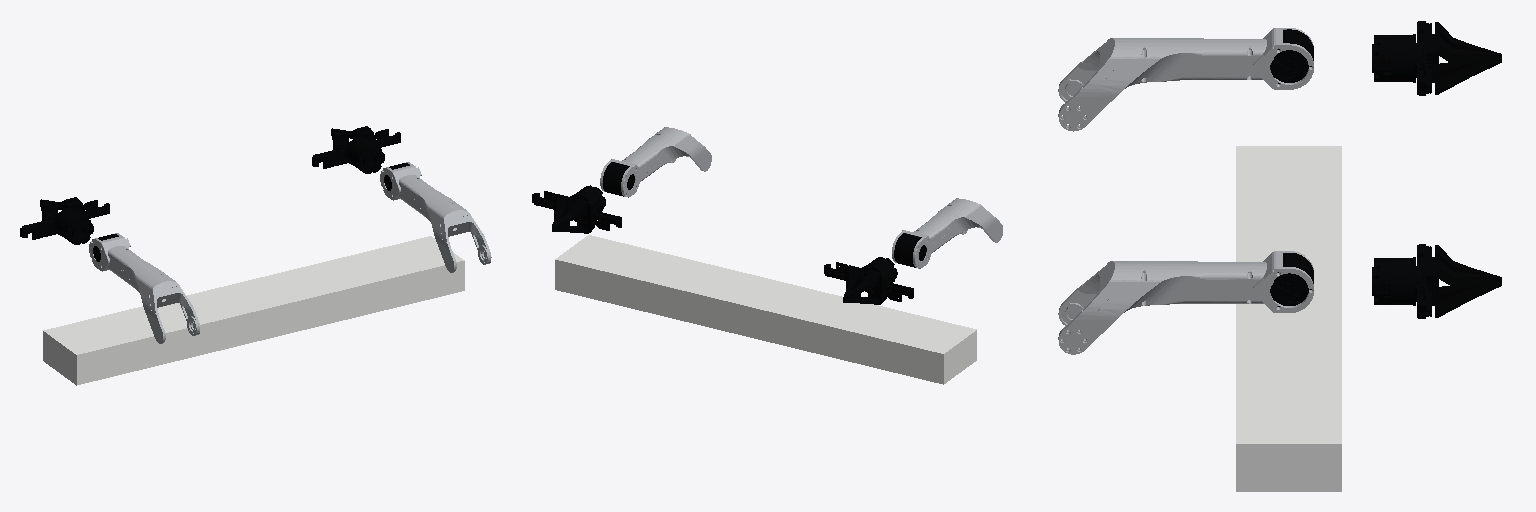
URDF robot description (arx5_bimanual):
<?xml version="1.0"?>
<!--
  Bimanual ARX X5 model derived from real-stanford/arx5-sdk
  commit c160db7834530a3d80fec524547c74e1d4fa8035 (MIT), models/X5.urdf.

  The kinematic origins and axes match the vendor SDK (ARXroboticsX/X5
  x5.urdf). Joint limits are the ones the SDK controller enforces
  (include/app/config.h, "X5"), not the URDF's +/-10 rad placeholders.
  link6.STL is split into a static gripper body and two finger meshes so the
  0.088 m stroke can be shown. The world convention is +X right,
  +Y forward/away from the operator, and +Z up.
-->
<robot name="arx5_bimanual">
  <!-- The SolidWorks export is uniformly grey. Use the production X5 finish
       instead: matte black links, motors and gripper, with the brushed
       aluminium forearm shell (link3_arm) and ARX's white base station. -->
  <material name="arx5_black"><color rgba="0.045 0.048 0.052 1"/></material>
  <material name="arx5_aluminium"><color rgba="0.720 0.730 0.745 1"/></material>
  <material name="arx5_mount"><color rgba="0.930 0.930 0.925 1"/></material>

  <link name="arx5_bimanual_base">
    <visual>
      <origin xyz="0 0 -0.03" rpy="0 0 0"/>
      <geometry><box size="0.80 0.12 0.06"/></geometry>
      <material name="arx5_mount"/>
    </visual>
    <collision>
      <origin xyz="0 0 -0.03" rpy="0 0 0"/>
      <geometry><box size="0.80 0.12 0.06"/></geometry>
    </collision>
  </link>

  <!-- Left arm. The vendor zero pose faces +X; the mount yaws it to world +Y.
       Both arms are identical (not mirrored) and the vendor wrist sits 1 mm to
       the arm's right (joint5 y=-0.001), so the mounts shift 1 mm along world
       +X to keep the TCP pair centred at X=0 while staying 0.60 m apart. -->
  <joint name="left_mount" type="fixed">
    <origin xyz="-0.299 0 0" rpy="0 0 1.5707963267948966"/>
    <parent link="arx5_bimanual_base"/><child link="left_base_link"/>
  </joint>
  <link name="left_base_link">
    <visual>
      <geometry><mesh filename="meshes/base_link.stl"/></geometry>
      <material name="arx5_black"/>
    </visual>
  </link>
  <link name="left_link1">
    <visual>
      <geometry><mesh filename="meshes/link1.stl"/></geometry>
      <material name="arx5_black"/>
    </visual>
  </link>
  <joint name="left_joint1" type="revolute">
    <origin xyz="0 0 0.0603" rpy="0 0 0"/>
    <axis xyz="0 0 1"/>
    <parent link="left_base_link"/><child link="left_link1"/>
    <limit effort="100" velocity="5.0" lower="-3.14" upper="2.618"/>
  </joint>
  <link name="left_link2">
    <visual>
      <geometry><mesh filename="meshes/link2.stl"/></geometry>
      <material name="arx5_black"/>
    </visual>
  </link>
  <joint name="left_joint2" type="revolute">
    <origin xyz="0.02 0 0.0402" rpy="0 0 0"/>
    <axis xyz="0 1 0"/>
    <parent link="left_link1"/><child link="left_link2"/>
    <limit effort="100" velocity="5.0" lower="-0.05" upper="3.50"/>
  </joint>
  <link name="left_link3">
    <visual>
      <geometry><mesh filename="meshes/link3_arm.stl"/></geometry>
      <material name="arx5_aluminium"/>
    </visual>
    <visual>
      <geometry><mesh filename="meshes/link3_motor.stl"/></geometry>
      <material name="arx5_black"/>
    </visual>
  </link>
  <joint name="left_joint3" type="revolute">
    <origin xyz="-0.264 0 0" rpy="-3.1416 0 0"/>
    <axis xyz="0 1 0"/>
    <parent link="left_link2"/><child link="left_link3"/>
    <limit effort="30" velocity="5.5" lower="-0.10" upper="3.20"/>
  </joint>
  <link name="left_link4">
    <visual>
      <geometry><mesh filename="meshes/link4.stl"/></geometry>
      <material name="arx5_black"/>
    </visual>
  </link>
  <joint name="left_joint4" type="revolute">
    <origin xyz="0.245 0 -0.056" rpy="0 0 0"/>
    <axis xyz="0 1 0"/>
    <parent link="left_link3"/><child link="left_link4"/>
    <limit effort="30" velocity="5.5" lower="-1.60" upper="1.55"/>
  </joint>
  <link name="left_link5">
    <visual>
      <geometry><mesh filename="meshes/link5.stl"/></geometry>
      <material name="arx5_black"/>
    </visual>
  </link>
  <joint name="left_joint5" type="revolute">
    <origin xyz="0.06575 -0.001 -0.0825" rpy="0 0 0"/>
    <axis xyz="0 0 1"/>
    <parent link="left_link4"/><child link="left_link5"/>
    <limit effort="100" velocity="5.0" lower="-1.57" upper="1.57"/>
  </joint>
  <link name="left_link6">
    <visual>
      <geometry><mesh filename="meshes/link6_body.stl"/></geometry>
      <material name="arx5_black"/>
    </visual>
  </link>
  <joint name="left_joint6" type="revolute">
    <origin xyz="0.02845 0 0.0825" rpy="-3.1416 0 0"/>
    <axis xyz="1 0 0"/>
    <parent link="left_link5"/><child link="left_link6"/>
    <limit effort="100" velocity="5.0" lower="-2.0" upper="2.0"/>
  </joint>
  <!-- The CAD finger pads sit 0.0301 m off the jaw centreline (60.2 mm gap).
       Shift each mesh back by that much so q=0 is closed and q=0.044 gives
       the SDK's 0.088 m full opening. joint7 drives the +Y finger and joint8
       mirrors it (same driven/mimic structure as assets/piper/piper.urdf). -->
  <link name="left_finger_pos_y">
    <visual>
      <origin xyz="0 -0.0301 0" rpy="0 0 0"/>
      <geometry><mesh filename="meshes/finger_pos_y.stl"/></geometry>
      <material name="arx5_black"/>
    </visual>
  </link>
  <joint name="left_joint7" type="prismatic">
    <origin xyz="0 0 0" rpy="0 0 0"/>
    <axis xyz="0 1 0"/>
    <parent link="left_link6"/><child link="left_finger_pos_y"/>
    <limit effort="10" velocity="0.15" lower="0" upper="0.044"/>
  </joint>
  <link name="left_finger_neg_y">
    <visual>
      <origin xyz="0 0.0301 0" rpy="0 0 0"/>
      <geometry><mesh filename="meshes/finger_neg_y.stl"/></geometry>
      <material name="arx5_black"/>
    </visual>
  </link>
  <joint name="left_joint8" type="prismatic">
    <origin xyz="0 0 0" rpy="0 0 0"/>
    <axis xyz="0 -1 0"/>
    <parent link="left_link6"/><child link="left_finger_neg_y"/>
    <limit effort="10" velocity="0.15" lower="0" upper="0.044"/>
    <mimic joint="left_joint7" multiplier="1" offset="0"/>
  </joint>
  <!-- Fingertip plane: the finger meshes end 0.1466 m along link6 +X. The TCP
       follows the HandUMI convention (+Z approach, Y across the jaw). -->
  <link name="left_tcp"/>
  <joint name="left_tcp_fixed" type="fixed">
    <origin xyz="0.1466 0 0" rpy="0 1.5707963267948966 0"/>
    <parent link="left_link6"/><child link="left_tcp"/>
  </joint>

  <!-- Right arm: identical chain under the right mount. -->
  <joint name="right_mount" type="fixed">
    <origin xyz="0.301 0 0" rpy="0 0 1.5707963267948966"/>
    <parent link="arx5_bimanual_base"/><child link="right_base_link"/>
  </joint>
  <link name="right_base_link">
    <visual>
      <geometry><mesh filename="meshes/base_link.stl"/></geometry>
      <material name="arx5_black"/>
    </visual>
  </link>
  <link name="right_link1">
    <visual>
      <geometry><mesh filename="meshes/link1.stl"/></geometry>
      <material name="arx5_black"/>
    </visual>
  </link>
  <joint name="right_joint1" type="revolute">
    <origin xyz="0 0 0.0603" rpy="0 0 0"/>
    <axis xyz="0 0 1"/>
    <parent link="right_base_link"/><child link="right_link1"/>
    <limit effort="100" velocity="5.0" lower="-3.14" upper="2.618"/>
  </joint>
  <link name="right_link2">
    <visual>
      <geometry><mesh filename="meshes/link2.stl"/></geometry>
      <material name="arx5_black"/>
    </visual>
  </link>
  <joint name="right_joint2" type="revolute">
    <origin xyz="0.02 0 0.0402" rpy="0 0 0"/>
    <axis xyz="0 1 0"/>
    <parent link="right_link1"/><child link="right_link2"/>
    <limit effort="100" velocity="5.0" lower="-0.05" upper="3.50"/>
  </joint>
  <link name="right_link3">
    <visual>
      <geometry><mesh filename="meshes/link3_arm.stl"/></geometry>
      <material name="arx5_aluminium"/>
    </visual>
    <visual>
      <geometry><mesh filename="meshes/link3_motor.stl"/></geometry>
      <material name="arx5_black"/>
    </visual>
  </link>
  <joint name="right_joint3" type="revolute">
    <origin xyz="-0.264 0 0" rpy="-3.1416 0 0"/>
    <axis xyz="0 1 0"/>
    <parent link="right_link2"/><child link="right_link3"/>
    <limit effort="30" velocity="5.5" lower="-0.10" upper="3.20"/>
  </joint>
  <link name="right_link4">
    <visual>
      <geometry><mesh filename="meshes/link4.stl"/></geometry>
      <material name="arx5_black"/>
    </visual>
  </link>
  <joint name="right_joint4" type="revolute">
    <origin xyz="0.245 0 -0.056" rpy="0 0 0"/>
    <axis xyz="0 1 0"/>
    <parent link="right_link3"/><child link="right_link4"/>
    <limit effort="30" velocity="5.5" lower="-1.60" upper="1.55"/>
  </joint>
  <link name="right_link5">
    <visual>
      <geometry><mesh filename="meshes/link5.stl"/></geometry>
      <material name="arx5_black"/>
    </visual>
  </link>
  <joint name="right_joint5" type="revolute">
    <origin xyz="0.06575 -0.001 -0.0825" rpy="0 0 0"/>
    <axis xyz="0 0 1"/>
    <parent link="right_link4"/><child link="right_link5"/>
    <limit effort="100" velocity="5.0" lower="-1.57" upper="1.57"/>
  </joint>
  <link name="right_link6">
    <visual>
      <geometry><mesh filename="meshes/link6_body.stl"/></geometry>
      <material name="arx5_black"/>
    </visual>
  </link>
  <joint name="right_joint6" type="revolute">
    <origin xyz="0.02845 0 0.0825" rpy="-3.1416 0 0"/>
    <axis xyz="1 0 0"/>
    <parent link="right_link5"/><child link="right_link6"/>
    <limit effort="100" velocity="5.0" lower="-2.0" upper="2.0"/>
  </joint>
  <link name="right_finger_pos_y">
    <visual>
      <origin xyz="0 -0.0301 0" rpy="0 0 0"/>
      <geometry><mesh filename="meshes/finger_pos_y.stl"/></geometry>
      <material name="arx5_black"/>
    </visual>
  </link>
  <joint name="right_joint7" type="prismatic">
    <origin xyz="0 0 0" rpy="0 0 0"/>
    <axis xyz="0 1 0"/>
    <parent link="right_link6"/><child link="right_finger_pos_y"/>
    <limit effort="10" velocity="0.15" lower="0" upper="0.044"/>
  </joint>
  <link name="right_finger_neg_y">
    <visual>
      <origin xyz="0 0.0301 0" rpy="0 0 0"/>
      <geometry><mesh filename="meshes/finger_neg_y.stl"/></geometry>
      <material name="arx5_black"/>
    </visual>
  </link>
  <joint name="right_joint8" type="prismatic">
    <origin xyz="0 0 0" rpy="0 0 0"/>
    <axis xyz="0 -1 0"/>
    <parent link="right_link6"/><child link="right_finger_neg_y"/>
    <limit effort="10" velocity="0.15" lower="0" upper="0.044"/>
    <mimic joint="right_joint7" multiplier="1" offset="0"/>
  </joint>
  <link name="right_tcp"/>
  <joint name="right_tcp_fixed" type="fixed">
    <origin xyz="0.1466 0 0" rpy="0 1.5707963267948966 0"/>
    <parent link="right_link6"/><child link="right_tcp"/>
  </joint>
</robot>

--- Facts derived from the render (not from the file) ---
3 views of the same robot in one strip: view 1: azimuth 30°, elevation 25°; view 2: azimuth 150°, elevation 25°; view 3: azimuth 270°, elevation 25° (orthographic).
Robot: arx5_bimanual — 21 links, 20 joints (12 revolute, 4 prismatic, 4 fixed); root link arx5_bimanual_base; default pose: every joint at zero.
Visible links, largest first — view 1: arx5_bimanual_base, right_link3, left_link3, left_link6, right_link6; view 2: arx5_bimanual_base, right_link3, left_link3, right_link6, left_link6, left_finger_pos_y, right_finger_pos_y; view 3: arx5_bimanual_base, right_link3, left_link3, right_link6, left_link6, left_finger_neg_y, right_finger_neg_y, right_finger_pos_y, left_finger_pos_y.
Boxes of the visible links, x1,y1,x2,y2 form: arx5_bimanual_base: (43,236,464,385); right_link3: (380,162,491,272); left_link3: (89,233,199,343); left_link6: (20,200,109,244); right_link6: (312,129,400,173); arx5_bimanual_base: (555,235,976,384); right_link3: (600,127,711,197); left_link3: (892,198,1002,268); right_link6: (532,185,621,230); left_link6: (824,257,913,301); left_finger_pos_y: (844,270,886,304); right_finger_pos_y: (553,199,594,233); arx5_bimanual_base: (1236,146,1341,491); right_link3: (1058,251,1313,354); left_link3: (1058,28,1313,131); right_link6: (1372,244,1431,318); left_link6: (1372,21,1431,95); left_finger_neg_y: (1426,37,1501,94); right_finger_neg_y: (1426,260,1501,317); right_finger_pos_y: (1428,245,1501,300); left_finger_pos_y: (1428,22,1500,77).
Size in the robot's own frame: 0.8 by 0.5033 by 0.247 metres.
10 mesh visuals loaded from 10 distinct referenced files (5 binary STL); not drawn: 10 (reference not matched to a file when rendering).
